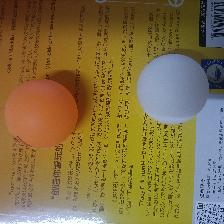WhiteBall: (137, 54, 209, 123)
YellowBall: (5, 80, 77, 147)
